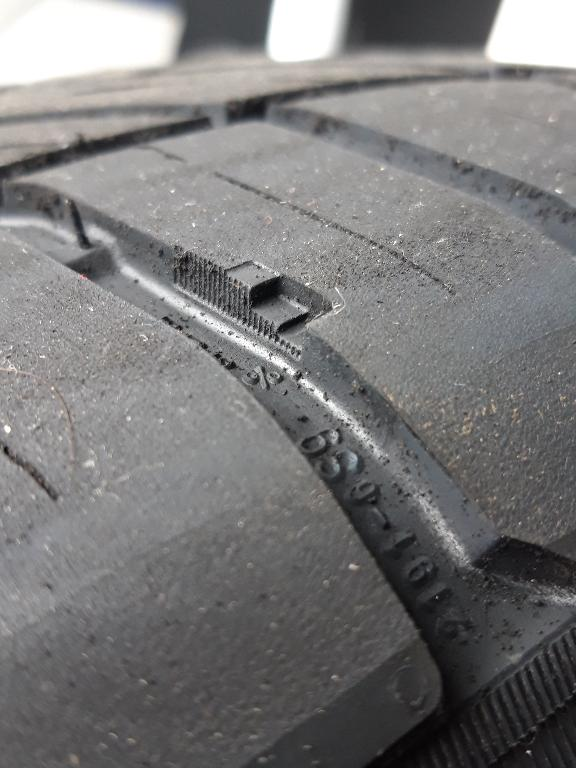temoin:50: (212, 250, 346, 369)
